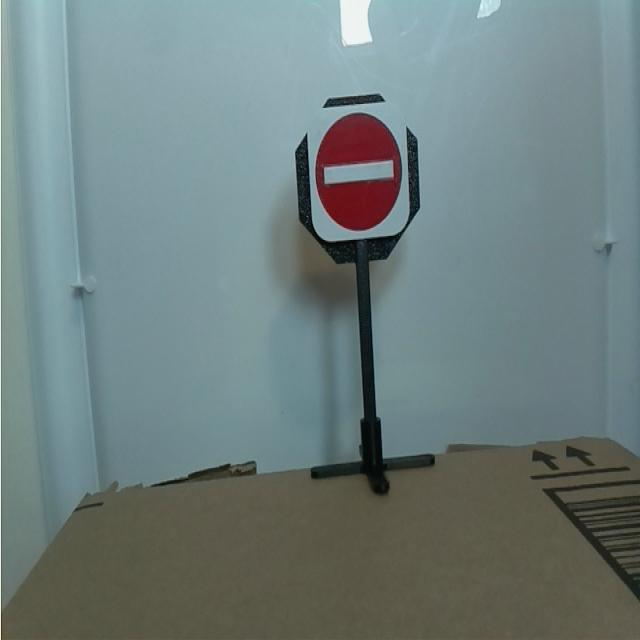sign_noentry: (304, 96, 411, 245)
